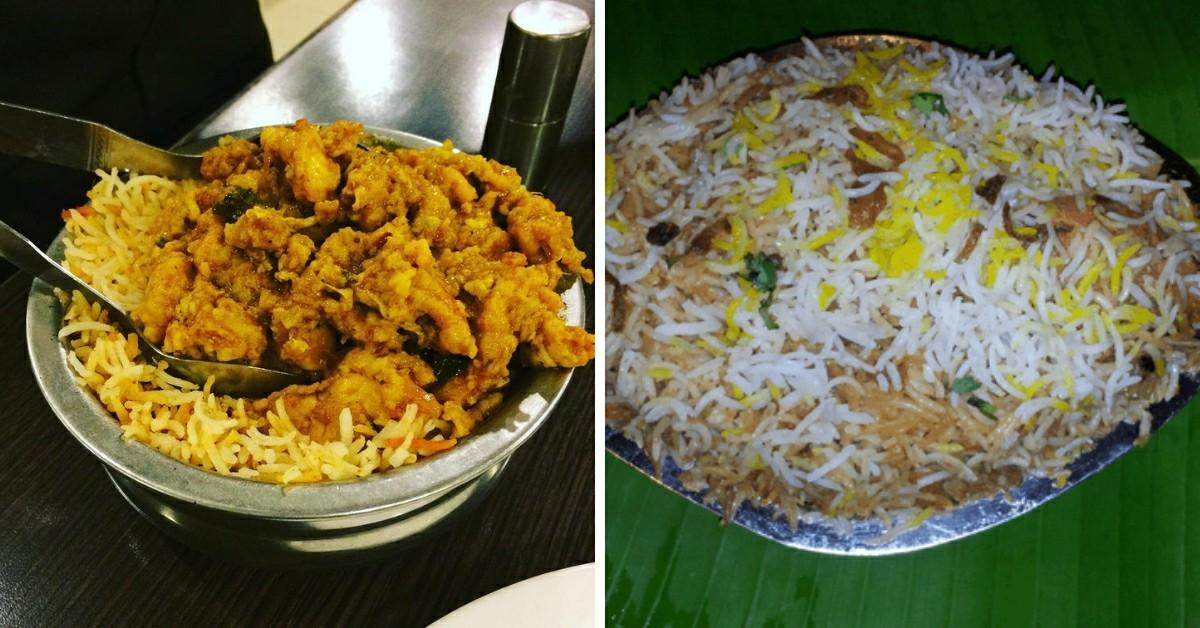Biryani: (603, 34, 1200, 530), (53, 115, 595, 483)
